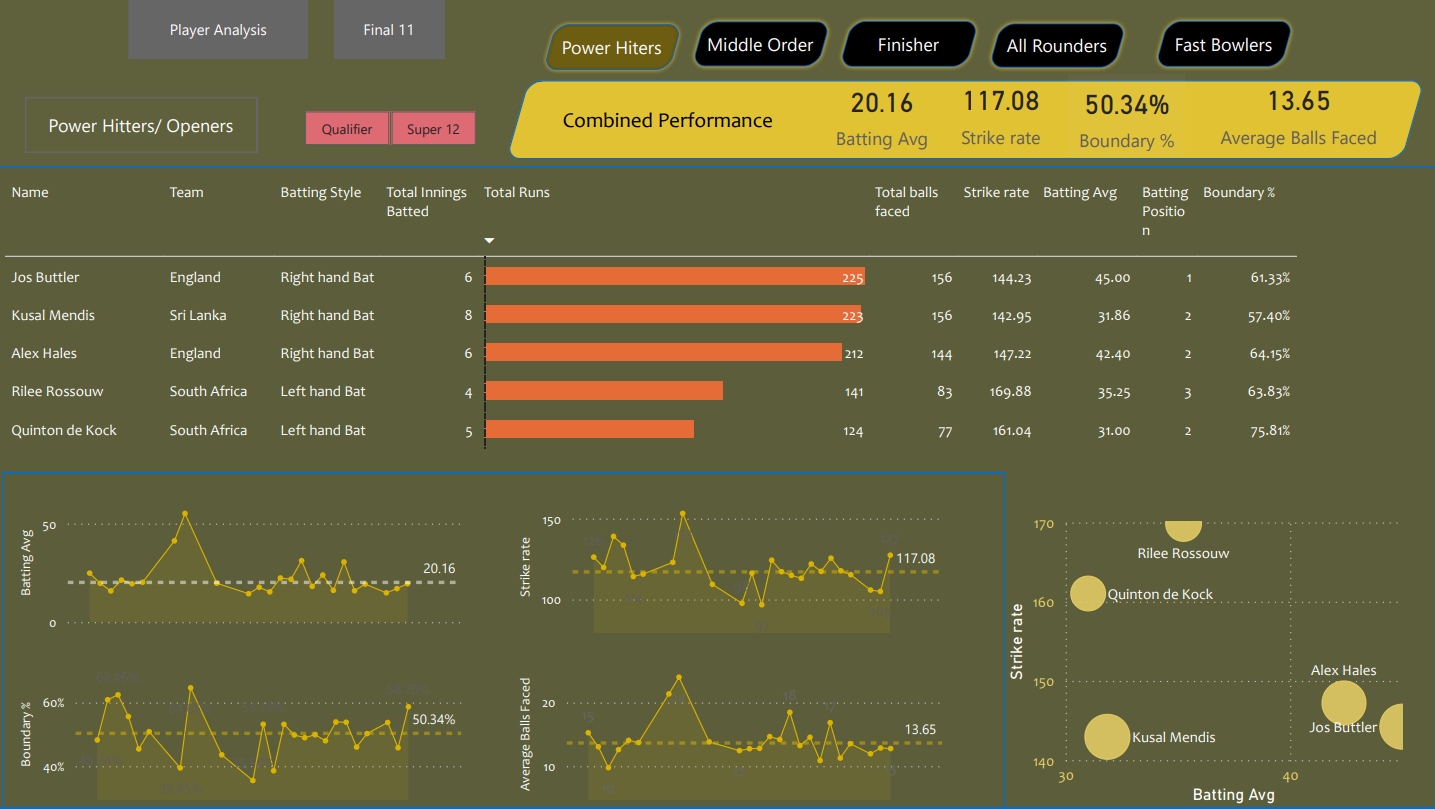

This screenshot's page, from the dashboard's own definition file:
{"tool":"powerbi","page":{"name":"Power Hitters / Openers","canvas":[1280,720],"ordinal":0},"visuals":[{"type":"shape","box":[861.1,445,392.8,273.3],"z":0},{"type":"shape","box":[0,148.3,1280,570],"z":1000},{"type":"tableEx","fields":{"Values":["dim_player.name","dim_player.team","dim_player.Batting Style","Key_Measures.Total Matches","Key_Measures.Total Runs","Key_Measures.total balls faced","Key_Measures.Strike rate","Key_Measures.Bat Avg","Key_Measures.Batting Position","Key_Measures.Boundary %"]},"box":[2.7,148.3,1220.9,269.2],"z":2000},{"type":"scatterChart","fields":{"Y":["Key_Measures.Strike rate"],"Category":["dim_player.name"],"X":["Key_Measures.Bat Avg"],"Size":["Key_Measures.Total Runs"]},"box":[894.1,450.5,368.1,269.2],"z":3000},{"type":"slicer","fields":{"Values":["dim_match_summary.stage"]},"box":[248.6,92,201.9,43.9],"z":4000},{"type":"shape","box":[26.1,86.5,206,49.4],"z":5000},{"type":"shape","box":[453.2,71.4,817.2,70],"z":6000},{"type":"card","fields":{"Values":["Key_Measures.Bat Avg"]},"box":[730.6,64.5,114,72.8],"z":7000},{"type":"card","fields":{"Values":["Key_Measures.Strike rate"]},"box":[833.6,63.2,119.5,72.8],"z":8000},{"type":"card","fields":{"Values":["Key_Measures.Boundary %"]},"box":[953.1,65.9,104.4,72.8],"z":9000},{"type":"card","fields":{"Values":["Key_Measures.Avergate Balls Faced"]},"box":[1074,63.2,167.6,72.8],"z":10000},{"type":"shape","box":[464.2,81,266.4,52.2],"z":11000},{"type":"shape","box":[482.1,17.9,131.8,48.1],"z":12000},{"type":"shape","box":[613.9,15.1,131.8,48.1],"z":13000},{"type":"shape","box":[745.8,15.1,131.8,48.1],"z":14000},{"type":"shape","box":[877.6,16.5,131.8,48.1],"z":15000},{"type":"shape","box":[1025.9,15.1,131.8,48.1],"z":16000},{"type":"shape","box":[5.5,420.3,891.3,299.4],"z":17000},{"type":"areaChart","fields":{"Category":["dim_match_summary.matchDate.Variation.Date Hierarchy.Day"],"Y":["Key_Measures.Batting Avg"]},"box":[16.5,434,402.4,133.2],"z":18000},{"type":"areaChart","fields":{"Category":["dim_match_summary.matchDate.Variation.Date Hierarchy.Day"],"Y":["Key_Measures.Boundary %"]},"box":[16.5,582.3,402.4,133.2],"z":19000},{"type":"areaChart","fields":{"Category":["dim_match_summary.matchDate.Variation.Date Hierarchy.Day"],"Y":["Key_Measures.Strike rate"]},"box":[460.1,432.6,384.5,134.6],"z":20000},{"type":"areaChart","fields":{"Category":["dim_match_summary.matchDate.Variation.Date Hierarchy.Day"],"Y":["Key_Measures.Average Balls Faced"]},"box":[460.1,582.3,385.9,133.2],"z":21000},{"type":"shape","box":[118.1,0,159.3,52.2],"z":22000},{"type":"shape","box":[300.8,0,97.5,52.2],"z":23000}]}

Visuals, with their boxes in screenshot pixels (x1, y1, x2, y2), scaled from the page's 1280x720 canvas onto the 1435x809 screenshot:
shape: left=965, top=500, right=1406, bottom=807
shape: left=0, top=167, right=1434, bottom=807
tableEx - dim_player.name x dim_player.team: left=3, top=167, right=1372, bottom=469
scatterChart - Key_Measures.Strike rate x dim_player.name: left=1002, top=506, right=1415, bottom=808
slicer - dim_match_summary.stage: left=279, top=103, right=505, bottom=153
shape: left=29, top=97, right=260, bottom=153
shape: left=508, top=80, right=1424, bottom=159
card - Key_Measures.Bat Avg: left=819, top=72, right=947, bottom=154
card - Key_Measures.Strike rate: left=935, top=71, right=1069, bottom=153
card - Key_Measures.Boundary %: left=1069, top=74, right=1186, bottom=156
card - Key_Measures.Avergate Balls Faced: left=1204, top=71, right=1392, bottom=153
shape: left=520, top=91, right=819, bottom=150
shape: left=540, top=20, right=688, bottom=74
shape: left=688, top=17, right=836, bottom=71
shape: left=836, top=17, right=984, bottom=71
shape: left=984, top=19, right=1132, bottom=73
shape: left=1150, top=17, right=1298, bottom=71
shape: left=6, top=472, right=1005, bottom=808
areaChart - dim_match_summary.matchDate.Variation.Date Hierarchy.Day x Key_Measures.Batting Avg: left=18, top=488, right=470, bottom=637
areaChart - dim_match_summary.matchDate.Variation.Date Hierarchy.Day x Key_Measures.Boundary %: left=18, top=654, right=470, bottom=804
areaChart - dim_match_summary.matchDate.Variation.Date Hierarchy.Day x Key_Measures.Strike rate: left=516, top=486, right=947, bottom=637
areaChart - dim_match_summary.matchDate.Variation.Date Hierarchy.Day x Key_Measures.Average Balls Faced: left=516, top=654, right=948, bottom=804
shape: left=132, top=0, right=311, bottom=59
shape: left=337, top=0, right=447, bottom=59
